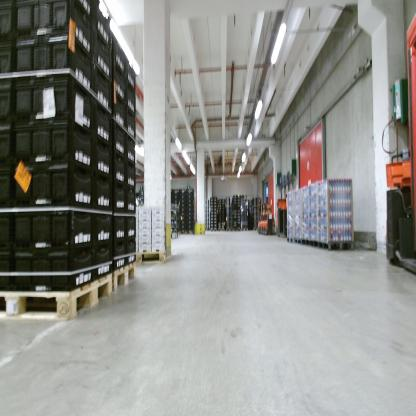pallet: (1, 271, 115, 329), (112, 262, 137, 299), (135, 248, 172, 271), (252, 227, 260, 233), (211, 227, 218, 233), (233, 227, 241, 232), (218, 227, 226, 232), (241, 227, 248, 231), (226, 228, 233, 232)
pallet_truck: (263, 203, 276, 238), (257, 198, 266, 237)
small_load_carrier: (4, 78, 94, 139), (11, 34, 89, 101), (10, 114, 88, 176), (13, 2, 93, 61), (4, 205, 95, 250), (8, 164, 92, 212), (11, 236, 93, 278), (86, 207, 115, 251), (89, 7, 113, 55), (86, 171, 116, 207), (91, 137, 116, 176), (96, 67, 114, 115), (92, 39, 110, 85), (94, 96, 110, 147), (108, 211, 125, 257), (124, 214, 140, 257), (120, 79, 140, 113), (112, 180, 128, 219), (114, 40, 127, 85), (112, 124, 126, 164), (93, 251, 115, 276), (110, 67, 124, 106), (110, 156, 127, 188), (124, 101, 138, 138), (125, 126, 137, 167), (128, 182, 139, 218), (113, 99, 124, 133), (127, 154, 137, 189), (128, 55, 136, 93)
